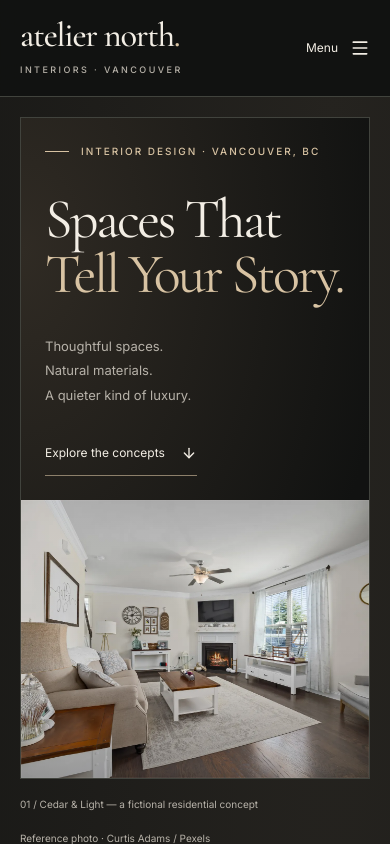
application shell and routes › closes navigation when focus leaves the header
Expected: the heading "Spaces That Tell Your Story." is shown, [45,192,343,302]
Click the button with aria-label "Menu — Open navigation" at x=326, y=48, box [282,26,370,70]
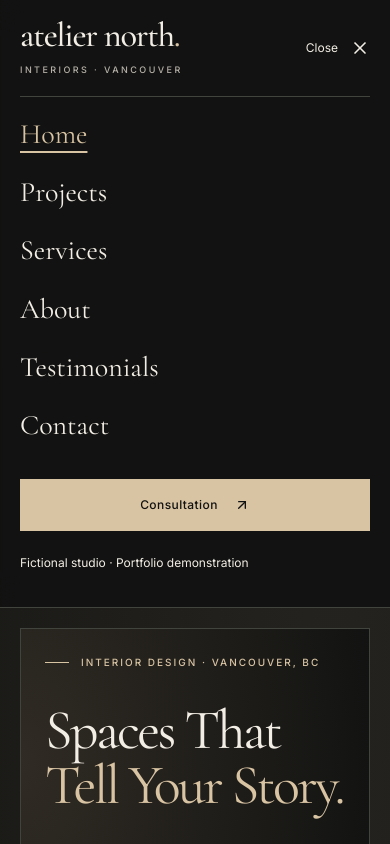
Leave the button named "Menu — Open navigation", box [282,26,370,70]
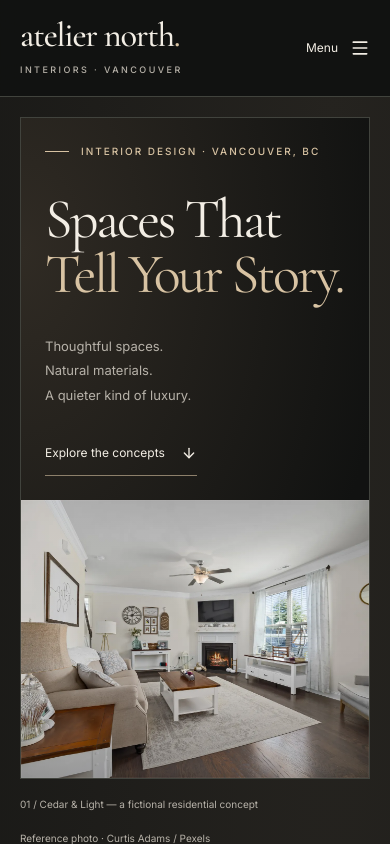
Expected: the button with aria-label "Menu — Open navigation" is collapsed, [282,26,370,70]
